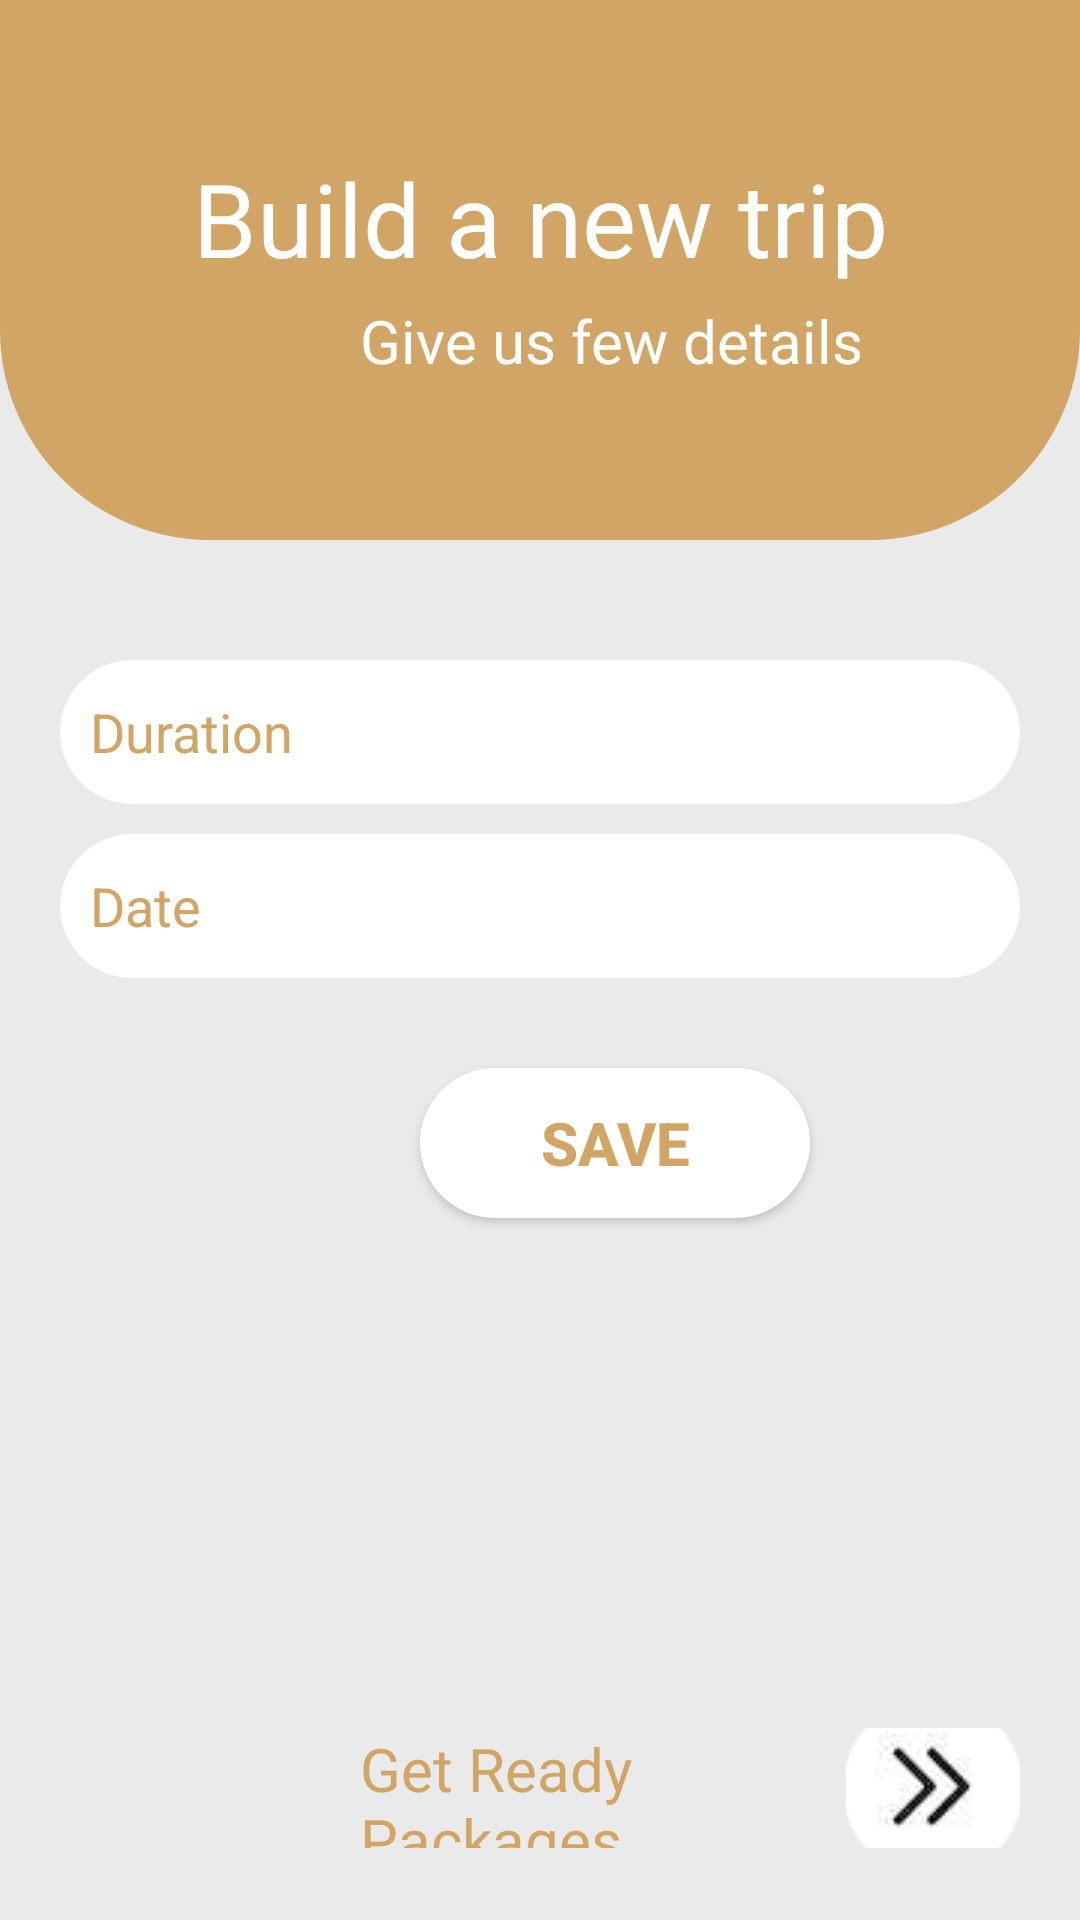

Icons on this 1080*1920 Android screen, each with its box as {"x1": x1, "y1": y1, "x2": x2, "y2": y2}:
goicon: {"x1": 846, "y1": 1728, "x2": 1020, "y2": 1848}
